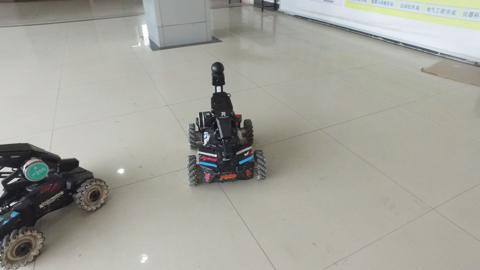chariot: (177, 61, 270, 186)
